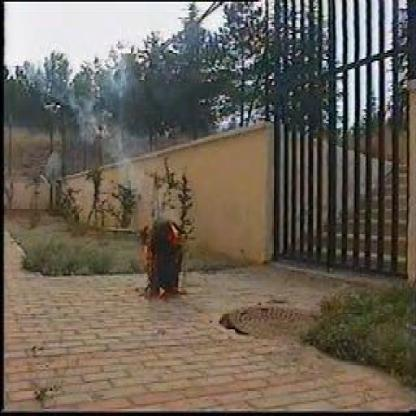-: (68, 61, 122, 146)
foggia-v2-map80-epoch100 - v1 4323: (165, 216, 185, 242)
